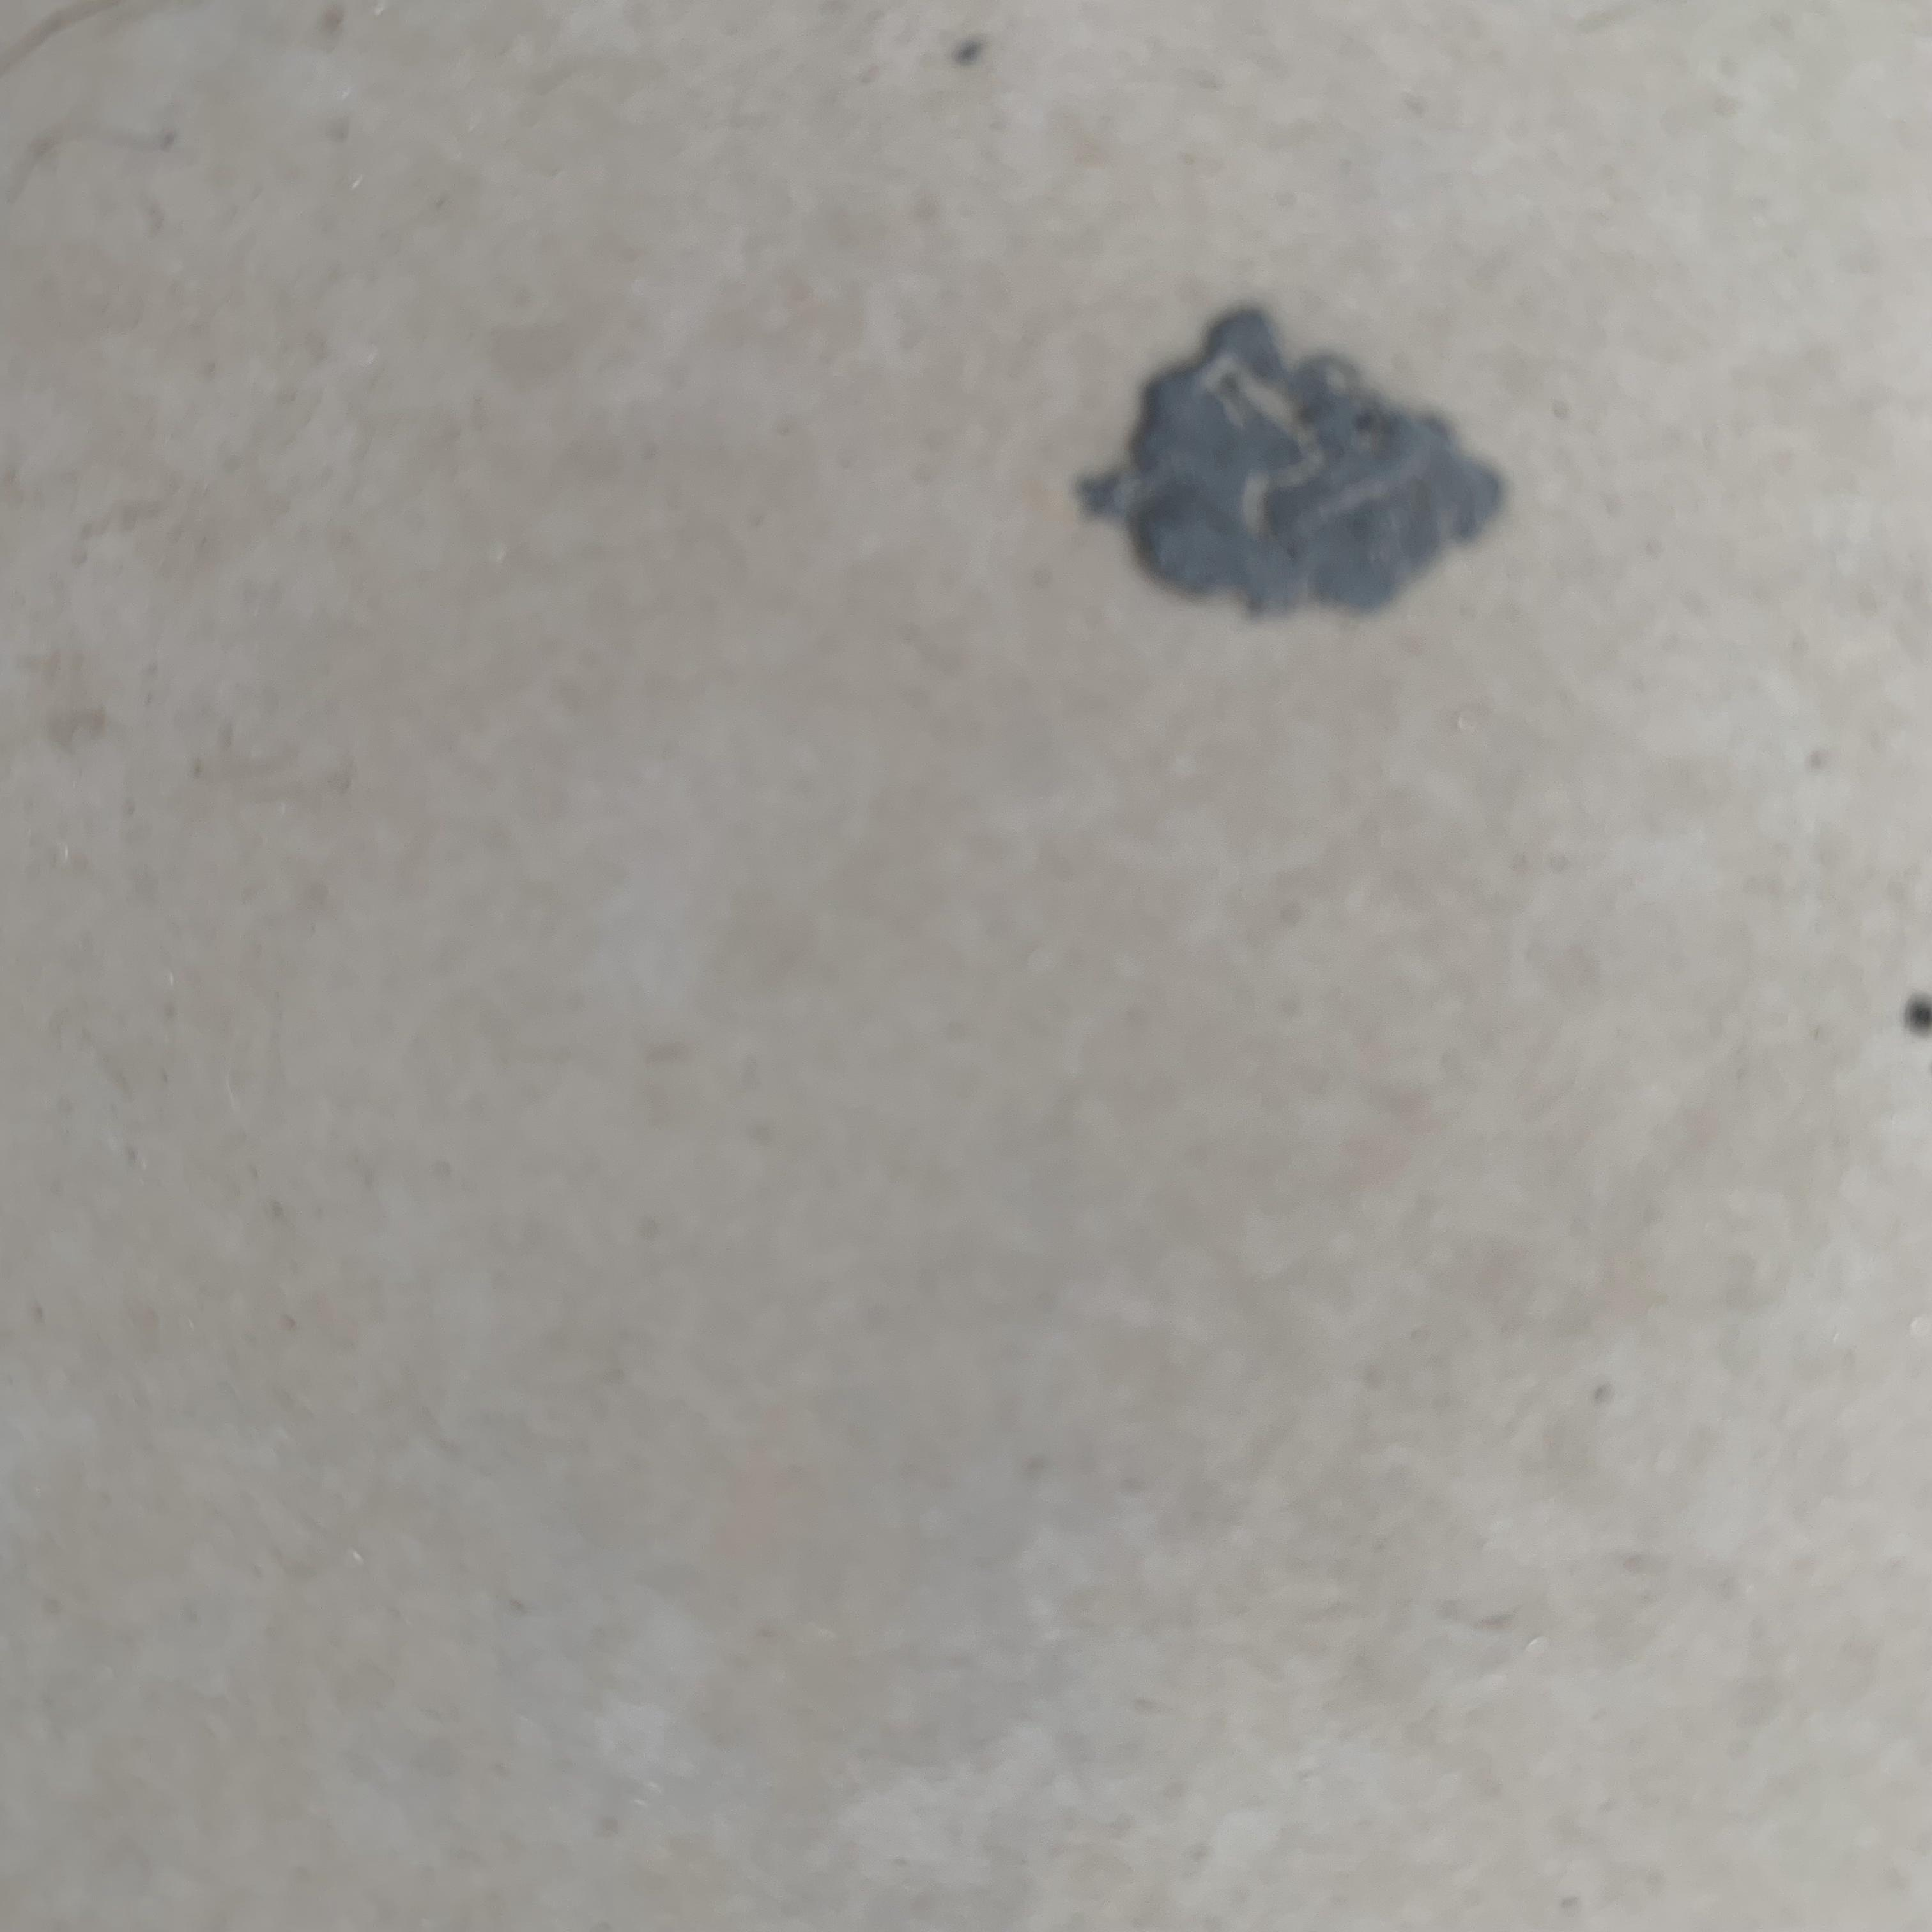grey spot: (1067, 297, 1509, 626), (1904, 998, 1932, 1037)
